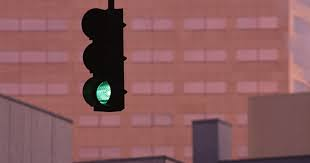green: (80, 4, 128, 117), (88, 5, 123, 113), (94, 10, 116, 109)
